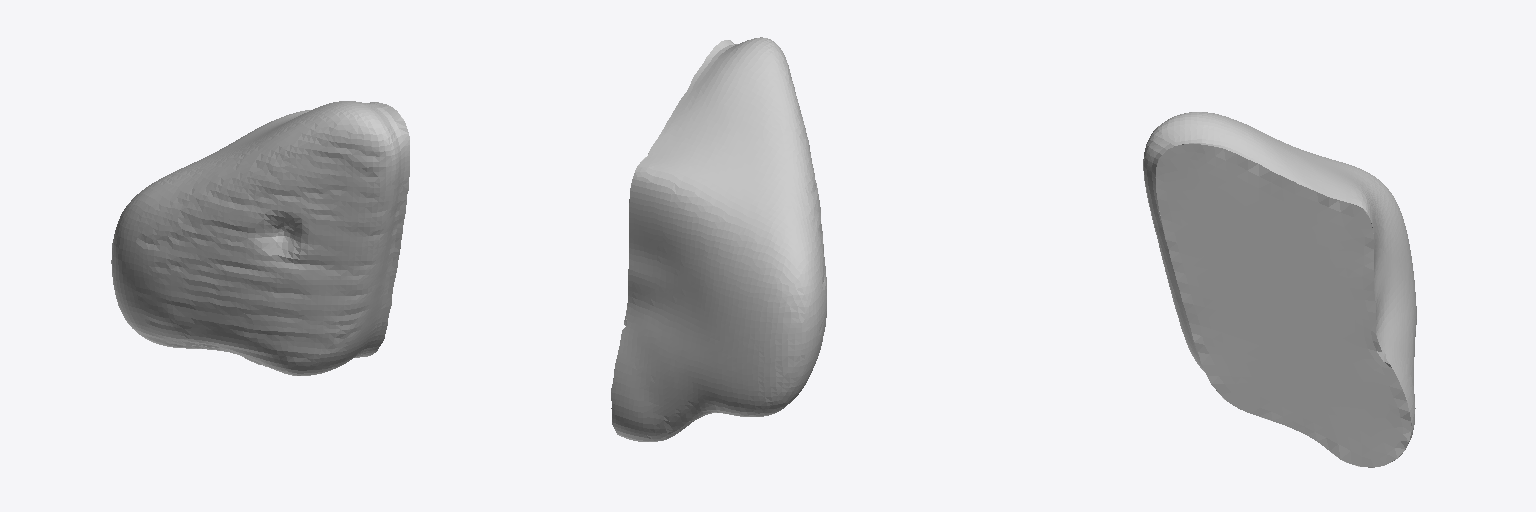
The model's file is Pons.obj.
3 renders of one model, left to right at view 1: azimuth 30°, elevation 25°; view 2: azimuth 150°, elevation 25°; view 3: azimuth 270°, elevation 25°, orthographic.
Visible parts, largest first — view 1: obj0; view 2: obj0; view 3: obj0.
Part boxes in pixels (x1,y1,x2,y2): obj0: (111,101,409,375); obj0: (611,37,826,441); obj0: (1143,112,1416,467).
Bounding box in the file's own units: 10.05 × 17.17 × 12.75.